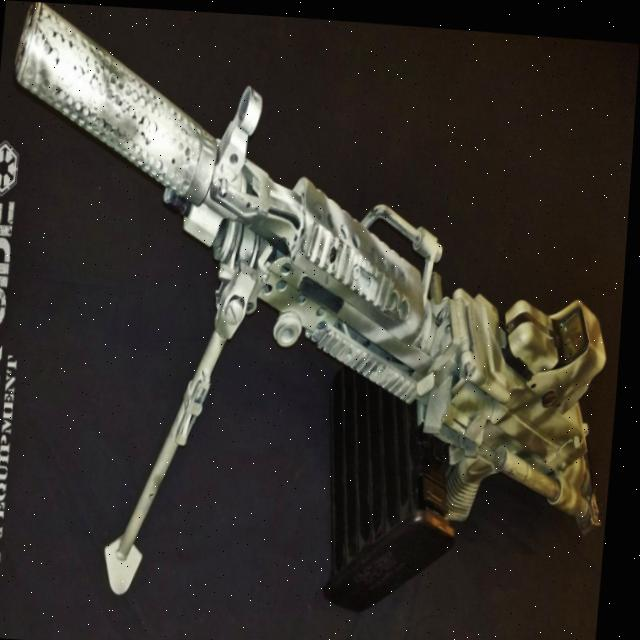firearm: (0, 0, 640, 630)
